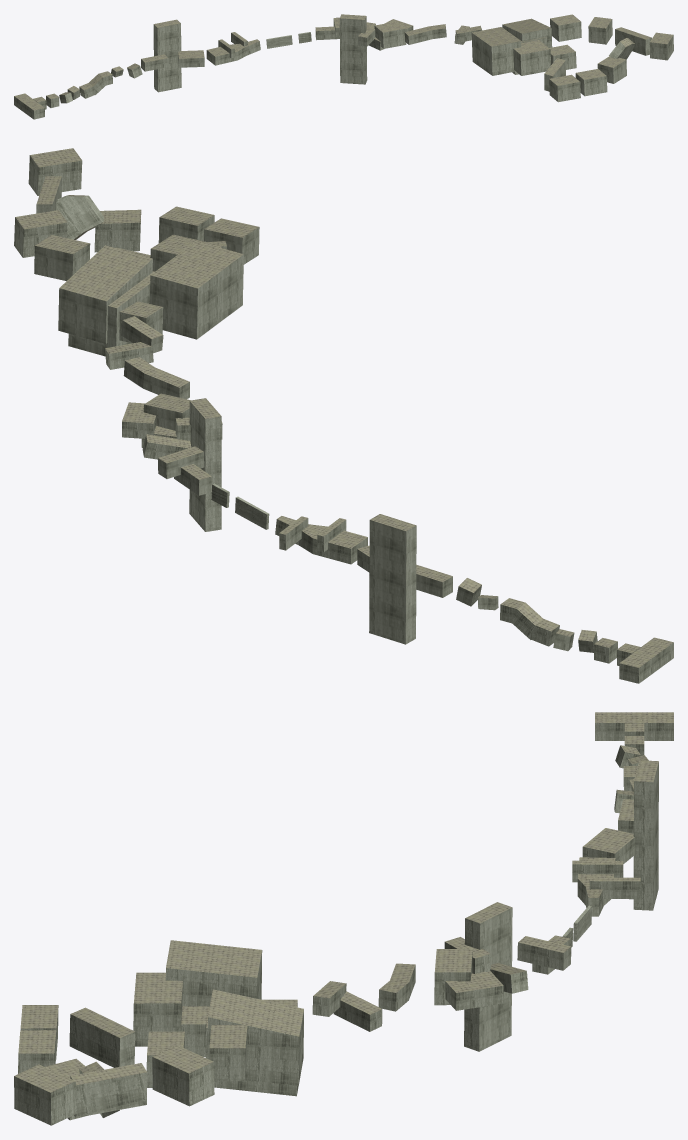
Rendered from SM_Republic_03_01.fbx.
The picture shows the model from 3 angles, top to bottom: view 1: azimuth 30°, elevation 25°; view 2: azimuth 150°, elevation 25°; view 3: azimuth 270°, elevation 25°; orthographic projection. The views are drawn at different scales.
Visible parts, largest first — view 1: SM_Republic_03_01, SM_Republic_03_01.001, SM_Republic_03_01.003, SM_Republic_03_01.006, SM_Republic_03_01.005, SM_Republic_03_01.002, SM_Republic_03_01.007, SM_Republic_03_01.008, SM_Republic_03_01.004; view 2: SM_Republic_03_01.001, SM_Republic_03_01, SM_Republic_03_01.006, SM_Republic_03_01.003, SM_Republic_03_01.002, SM_Republic_03_01.005, SM_Republic_03_01.007, SM_Republic_03_01.008, SM_Republic_03_01.004; view 3: SM_Republic_03_01, SM_Republic_03_01.001, SM_Republic_03_01.003, SM_Republic_03_01.006, SM_Republic_03_01.002, SM_Republic_03_01.008, SM_Republic_03_01.005, SM_Republic_03_01.004, SM_Republic_03_01.007.
Part boxes in pixels (x1,y1,x2,y2): SM_Republic_03_01: [544, 14, 673, 102]; SM_Republic_03_01.001: [471, 18, 552, 75]; SM_Republic_03_01.003: [339, 14, 413, 84]; SM_Republic_03_01.006: [141, 19, 204, 92]; SM_Republic_03_01.005: [206, 32, 260, 65]; SM_Republic_03_01.002: [404, 24, 482, 44]; SM_Republic_03_01.007: [67, 63, 142, 99]; SM_Republic_03_01.008: [14, 92, 72, 119]; SM_Republic_03_01.004: [266, 17, 339, 48]; SM_Republic_03_01.001: [58, 234, 243, 356]; SM_Republic_03_01: [14, 148, 259, 280]; SM_Republic_03_01.006: [357, 514, 452, 644]; SM_Republic_03_01.003: [122, 393, 222, 531]; SM_Republic_03_01.002: [105, 316, 189, 399]; SM_Republic_03_01.005: [275, 516, 367, 564]; SM_Republic_03_01.007: [456, 578, 574, 651]; SM_Republic_03_01.008: [578, 630, 673, 683]; SM_Republic_03_01.004: [158, 446, 269, 529]; SM_Republic_03_01: [14, 1005, 247, 1125]; SM_Republic_03_01.001: [133, 940, 303, 1096]; SM_Republic_03_01.003: [434, 902, 528, 1051]; SM_Republic_03_01.006: [582, 760, 658, 910]; SM_Republic_03_01.002: [312, 963, 415, 1031]; SM_Republic_03_01.008: [595, 712, 673, 768]; SM_Republic_03_01.005: [572, 857, 640, 916]; SM_Republic_03_01.004: [517, 905, 592, 974]; SM_Republic_03_01.007: [614, 755, 648, 813].
Bounding box in the file's own units: 23297 × 3509 × 13330.
